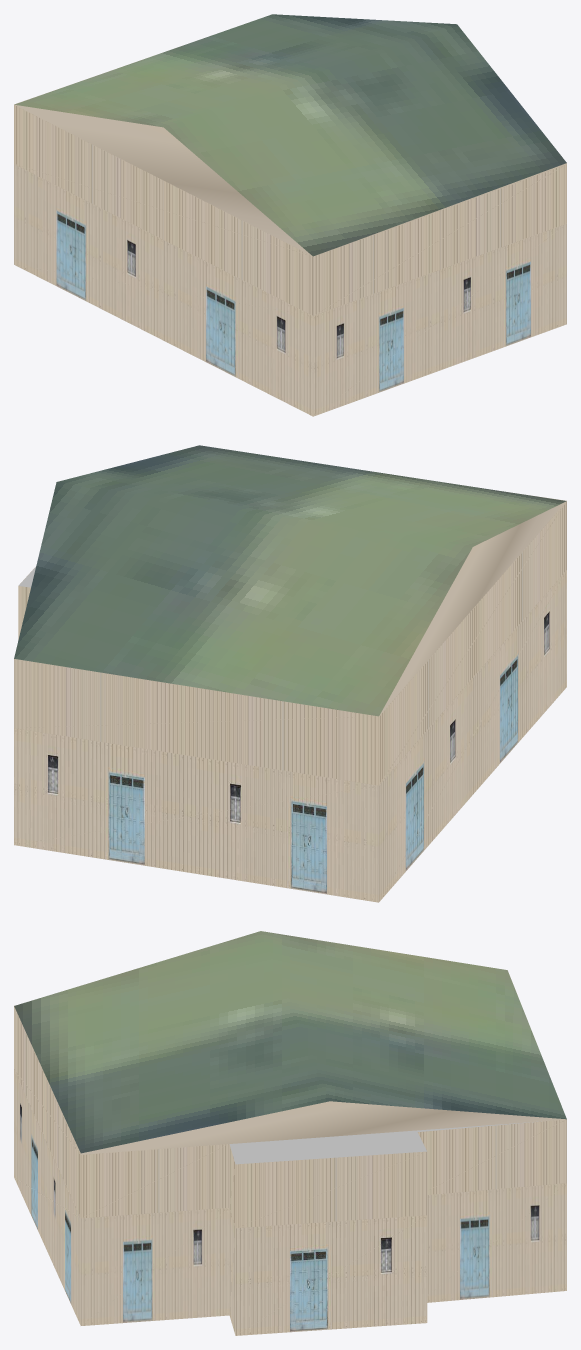
3 renders of one model, top to bottom at view 1: azimuth 30°, elevation 25°; view 2: azimuth 150°, elevation 25°; view 3: azimuth 270°, elevation 25°, orthographic. The views are drawn at different scales.
Parts seen in each view (by area): view 1: SketchUp (×4); view 2: SketchUp (×4); view 3: SketchUp (×5).
Part boxes in pixels (x1,y1,x2,y2): SketchUp (×4): (14, 14, 566, 416); SketchUp (×4): (14, 445, 566, 902); SketchUp (×5): (14, 931, 566, 1335).
Size of the model in its own units: 503 by 605 by 276.
Materials: 6 (5 with a texture image).
